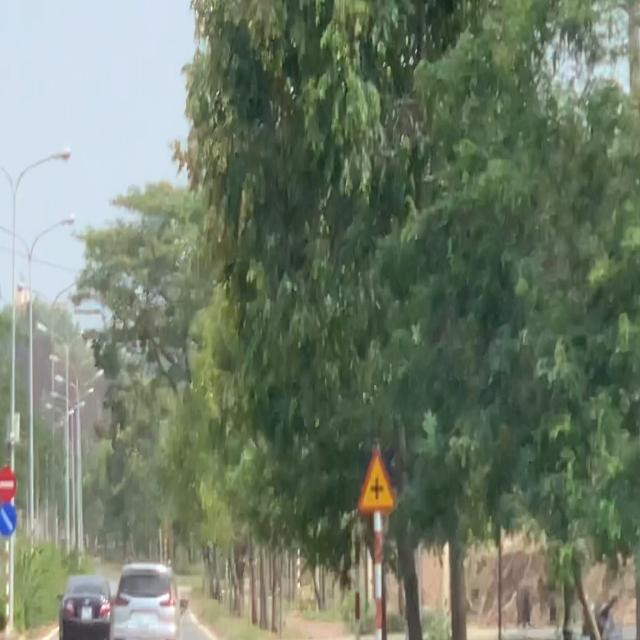Cam nguoc chieu: (0, 466, 16, 501)
Duong giao nhau: (358, 444, 397, 512)
Hieu lenh: (0, 502, 16, 538)
